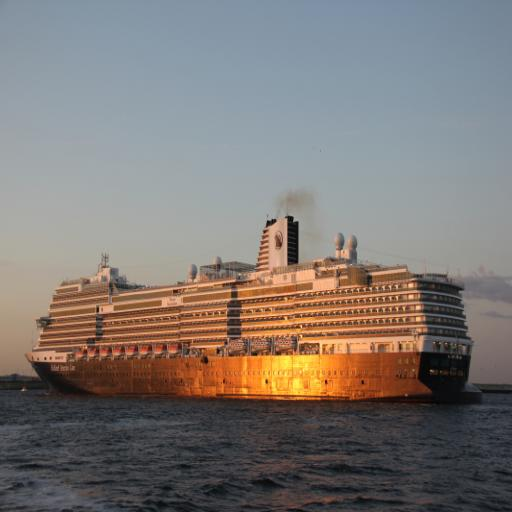cruises: (22, 211, 475, 409)
